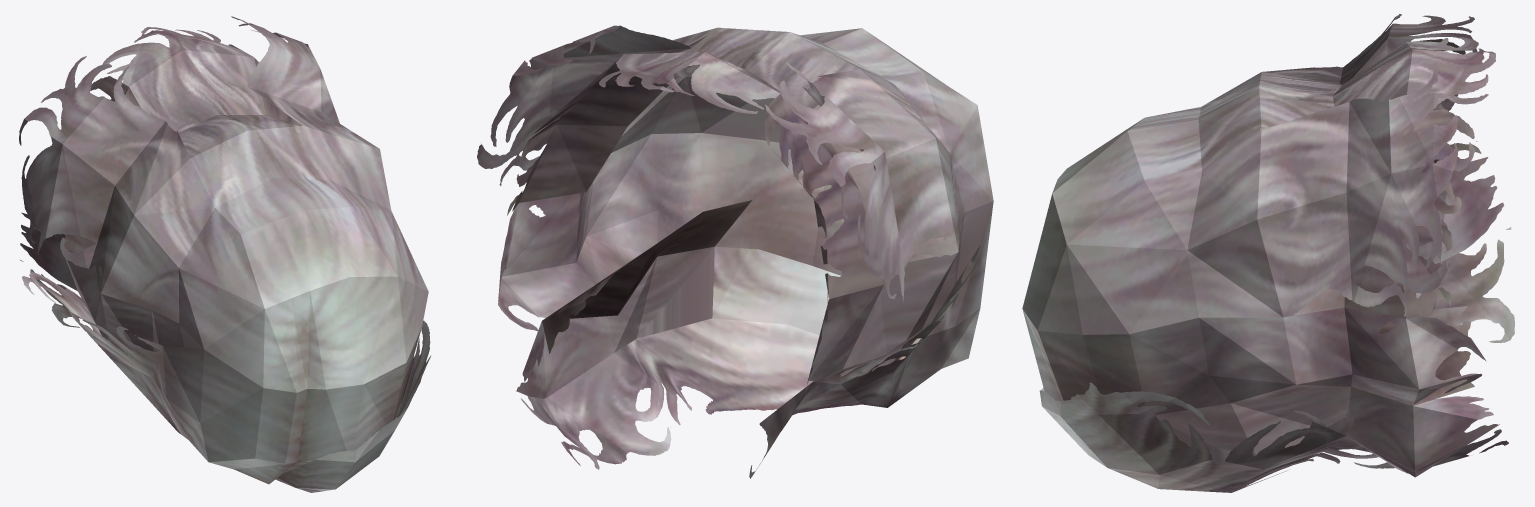
File: common_hair_male_2021.obj
3 renders of one model, left to right at view 1: azimuth 30°, elevation 25°; view 2: azimuth 150°, elevation 25°; view 3: azimuth 270°, elevation 25°, orthographic. The views are drawn at different scales.
Visible parts, largest first — view 1: common_hair_male_2021; view 2: common_hair_male_2021; view 3: common_hair_male_2021.
Boxes of the visible parts, <box> form: common_hair_male_2021: <box>19,16,431,492</box>; common_hair_male_2021: <box>477,25,993,478</box>; common_hair_male_2021: <box>1022,14,1514,492</box>.
Size of the model in its own units: 11.17 by 12.04 by 12.14.
Materials: 1 (1 with a texture image).
